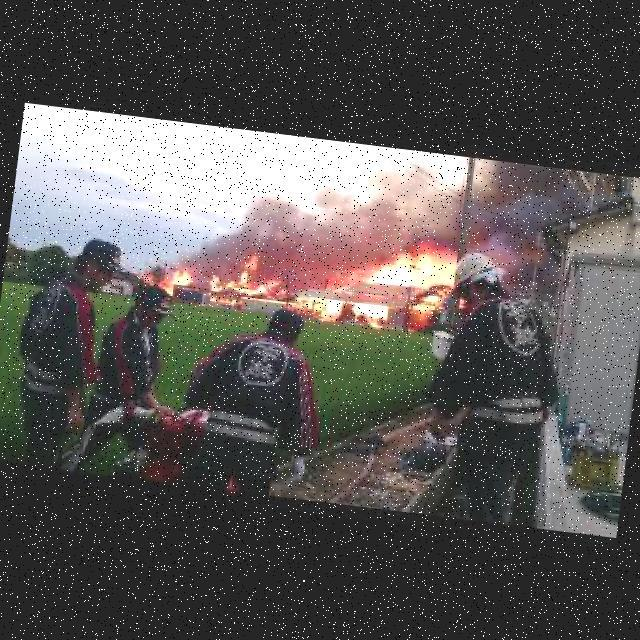Fire: (359, 249, 457, 312), (208, 251, 295, 309), (144, 265, 191, 296), (289, 295, 345, 321), (346, 301, 388, 328), (330, 269, 360, 294)
Smoke: (228, 151, 445, 281)
